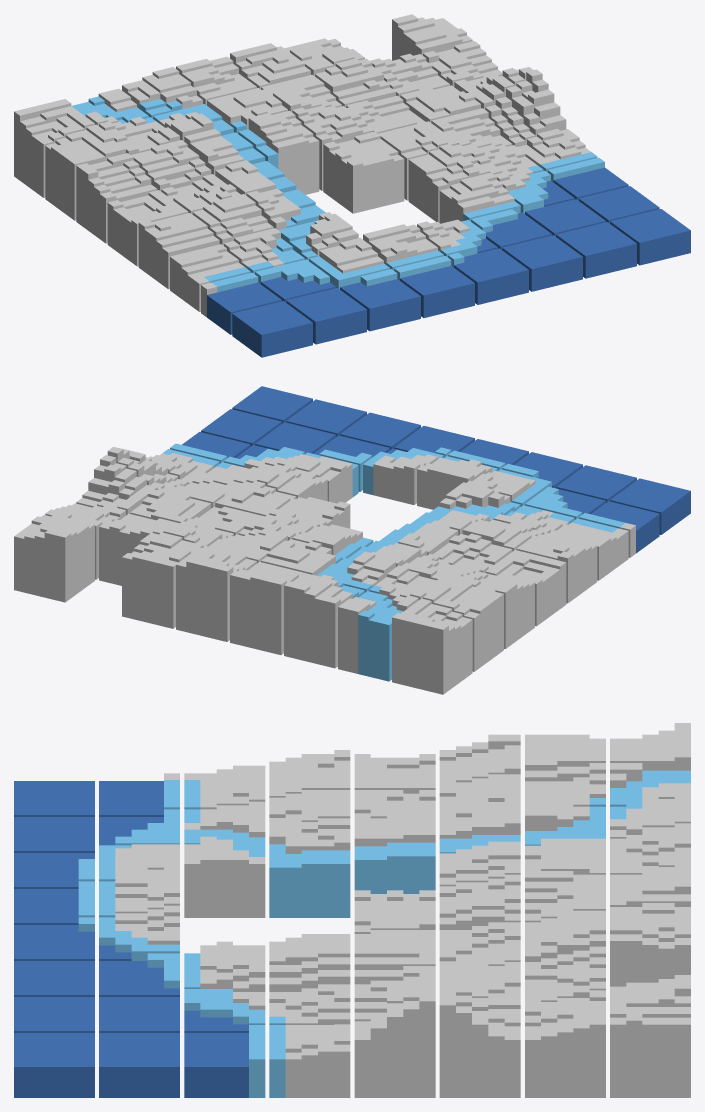
File: context_lower_left.glb
3 renders of one model, top to bottom at view 1: azimuth 30°, elevation 25°; view 2: azimuth 150°, elevation 25°; view 3: azimuth 270°, elevation 25°, orthographic. The views are drawn at different scales.
Visible parts, largest first — view 1: ctx_lower_left; view 2: ctx_lower_left; view 3: ctx_lower_left.
Part boxes in pixels (box(x1,y1,x2,y2)): ctx_lower_left: box(14, 14, 690, 357); ctx_lower_left: box(14, 386, 690, 694); ctx_lower_left: box(14, 723, 690, 1097).
Size of the model in its own units: 79.5 by 12.5 by 79.5.
